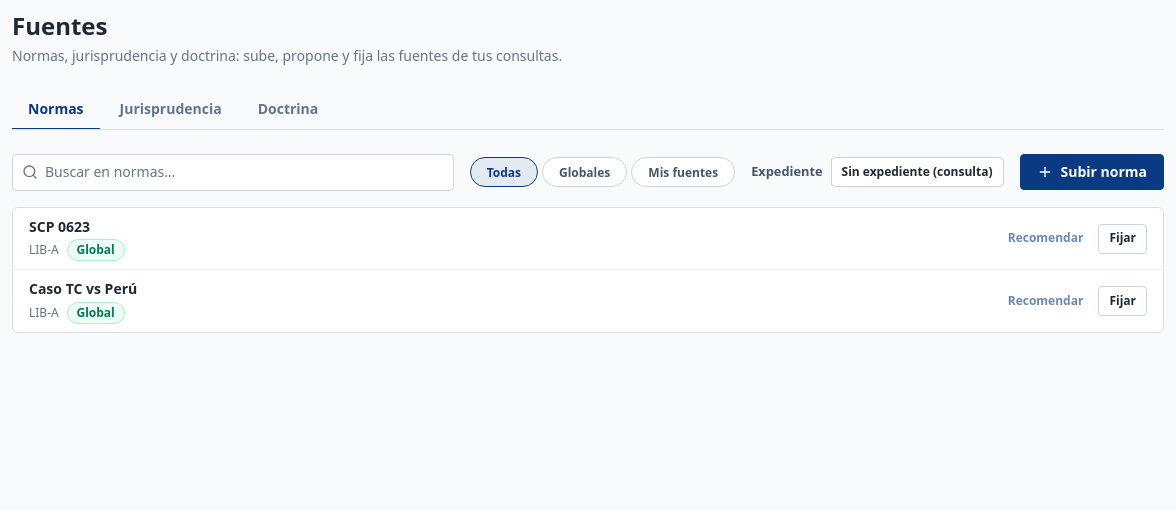
Test: Fuentes — subida y jurisprudencia › la jurisprudencia se divide en TCP, CIDH y resoluciones del tribunal
Step 1. Click the tab "Jurisprudencia" → [171, 110], box [104,90,238,130]
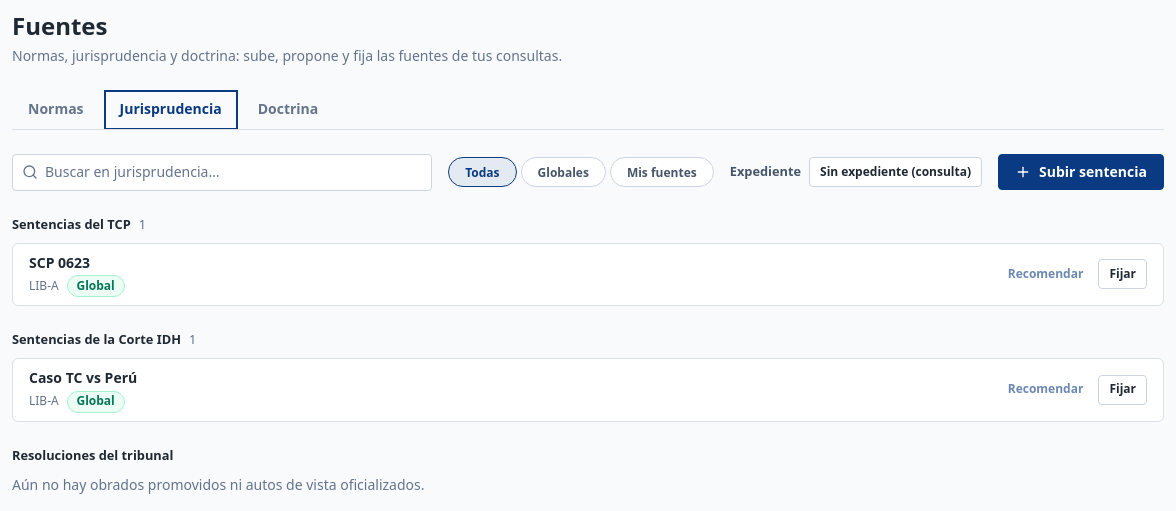
Now the heading "Sentencias del TCP 1" is shown, box [12,215,146,233]
Now the heading "Sentencias de la Corte IDH 1" is shown, box [12,330,196,348]
Now the heading "Resoluciones del tribunal" is shown, box [12,446,173,464]
